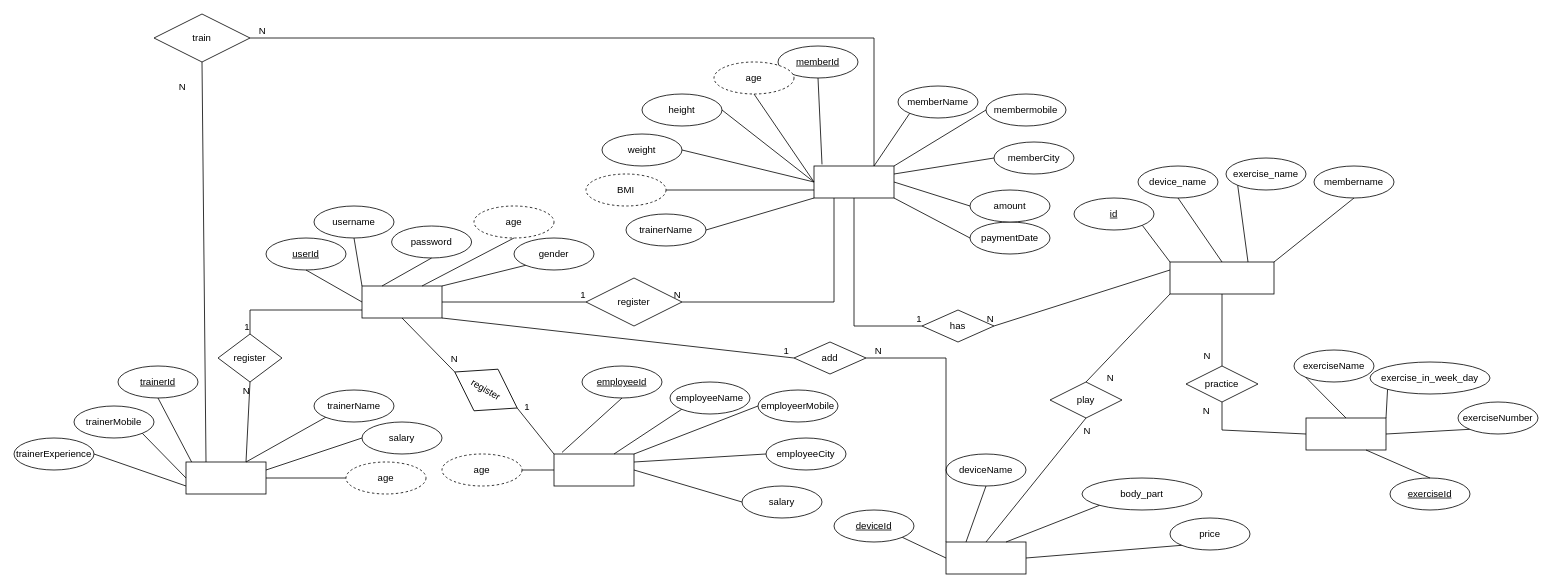
The diagram is 1552 pixels wide and 588 high, and some of its shapes have lost their labels. Each missing label, with the centre of its shape:
admin: the point at 401,301
device: the point at 985,557
employee: the point at 593,469
exercise: the point at 1345,433
extra_info_member: the point at 1221,277
member: the point at 853,181
trainer: the point at 225,477
